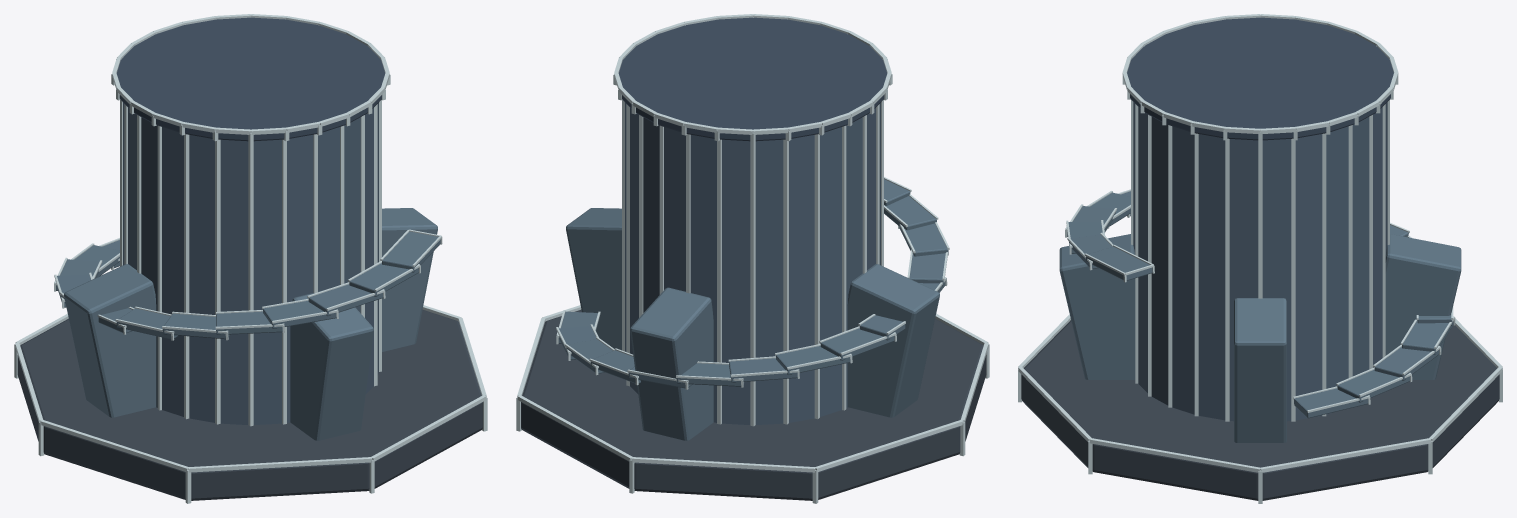
The model's file is skill-postgresql-v1.glb.
3 renders of one model, left to right at view 1: azimuth 30°, elevation 25°; view 2: azimuth 150°, elevation 25°; view 3: azimuth 270°, elevation 25°, orthographic.
Parts seen in each view (by area): view 1: skill-postgresql-v1__mesh-structure-dark__001, skill-postgresql-v1__mesh-ground__001, skill-postgresql-v1__mesh-structure-mid__001, skill-postgresql-v1__technical-lines__001, skill-postgresql-v1__mesh-roof__001; view 2: skill-postgresql-v1__mesh-structure-dark__001, skill-postgresql-v1__mesh-structure-mid__001, skill-postgresql-v1__mesh-ground__001, skill-postgresql-v1__technical-lines__001, skill-postgresql-v1__mesh-roof__001; view 3: skill-postgresql-v1__mesh-structure-dark__001, skill-postgresql-v1__mesh-ground__001, skill-postgresql-v1__mesh-structure-mid__001, skill-postgresql-v1__technical-lines__001, skill-postgresql-v1__mesh-roof__001.
Part boxes in pixels (x1=…): skill-postgresql-v1__mesh-structure-dark__001: x1=123, y1=103, x2=378, y2=424; skill-postgresql-v1__mesh-ground__001: x1=17, y1=310, x2=482, y2=500; skill-postgresql-v1__mesh-structure-mid__001: x1=56, y1=208, x2=440, y2=440; skill-postgresql-v1__technical-lines__001: x1=14, y1=14, x2=487, y2=503; skill-postgresql-v1__mesh-roof__001: x1=116, y1=17, x2=385, y2=141; skill-postgresql-v1__mesh-structure-dark__001: x1=625, y1=103, x2=880, y2=424; skill-postgresql-v1__mesh-structure-mid__001: x1=558, y1=179, x2=948, y2=440; skill-postgresql-v1__mesh-ground__001: x1=521, y1=310, x2=986, y2=500; skill-postgresql-v1__technical-lines__001: x1=516, y1=14, x2=989, y2=503; skill-postgresql-v1__mesh-roof__001: x1=618, y1=17, x2=887, y2=141; skill-postgresql-v1__mesh-structure-dark__001: x1=1133, y1=102, x2=1387, y2=421; skill-postgresql-v1__mesh-ground__001: x1=1021, y1=320, x2=1499, y2=500; skill-postgresql-v1__mesh-structure-mid__001: x1=1059, y1=191, x2=1461, y2=442; skill-postgresql-v1__technical-lines__001: x1=1018, y1=14, x2=1502, y2=503; skill-postgresql-v1__mesh-roof__001: x1=1127, y1=17, x2=1393, y2=140.
Size of the model in its own units: 20.17 by 15.11 by 20.17.
